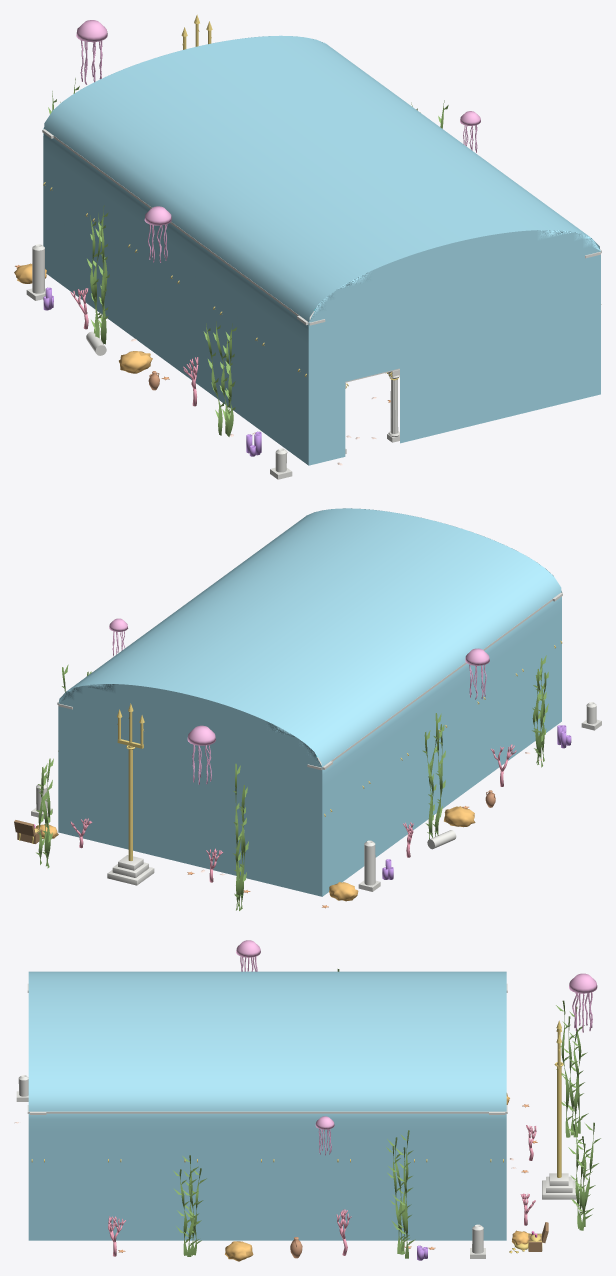
File: AtlantisCage.fbx
The picture shows the model from 3 angles, top to bottom: view 1: azimuth 30°, elevation 25°; view 2: azimuth 150°, elevation 25°; view 3: azimuth 270°, elevation 25°; orthographic projection. The views are drawn at different scales.
Visible parts, largest first — view 1: AtlantisDome, AtlantisRuins, AtlantisKelpB, AtlantisKelpA, AtlantisJellyC, AtlantisMarble, AtlantisCoralOrange, AtlantisJellyA, AtlantisDoorway; view 2: AtlantisDome, AtlantisRuins, AtlantisCoralOrange, AtlantisKelpB, AtlantisTrident, AtlantisKelpE, AtlantisKelpF, AtlantisKelpA, AtlantisPedestal, AtlantisCoralReef, AtlantisJellyC, AtlantisMarble (+1 smaller); view 3: AtlantisDome, AtlantisMarble, AtlantisKelpE, AtlantisKelpD, AtlantisKelpF, AtlantisKelpC, AtlantisCoralReef, AtlantisJellyC, AtlantisPedestal, AtlantisTrident, AtlantisRuins, AtlantisCoralOrange (+2 smaller).
Part boxes in pixels (bbox=[...]): AtlantisDome: bbox=[43, 35, 600, 465]; AtlantisRuins: bbox=[26, 244, 292, 479]; AtlantisKelpB: bbox=[87, 205, 109, 344]; AtlantisKelpA: bbox=[203, 321, 236, 436]; AtlantisJellyC: bbox=[76, 20, 107, 84]; AtlantisMarble: bbox=[42, 129, 601, 325]; AtlantisCoralOrange: bbox=[14, 263, 152, 373]; AtlantisJellyA: bbox=[144, 206, 171, 262]; AtlantisDoorway: bbox=[345, 368, 399, 453]; AtlantisDome: bbox=[58, 508, 561, 896]; AtlantisRuins: bbox=[31, 702, 601, 891]; AtlantisCoralOrange: bbox=[35, 806, 475, 901]; AtlantisKelpB: bbox=[422, 713, 445, 839]; AtlantisTrident: bbox=[117, 703, 144, 860]; AtlantisKelpE: bbox=[233, 763, 248, 910]; AtlantisKelpF: bbox=[36, 758, 53, 868]; AtlantisKelpA: bbox=[532, 655, 548, 767]; AtlantisPedestal: bbox=[107, 855, 154, 885]; AtlantisCoralReef: bbox=[70, 744, 516, 882]; AtlantisJellyC: bbox=[187, 725, 215, 784]; AtlantisMarble: bbox=[57, 592, 562, 770]; AtlantisDome: bbox=[28, 971, 506, 1240]; AtlantisMarble: bbox=[27, 983, 507, 1114]; AtlantisKelpE: bbox=[556, 1000, 588, 1137]; AtlantisKelpD: bbox=[386, 1130, 415, 1258]; AtlantisKelpF: bbox=[567, 1122, 600, 1230]; AtlantisKelpC: bbox=[173, 1155, 206, 1256]; AtlantisCoralReef: bbox=[108, 1125, 536, 1256]; AtlantisJellyC: bbox=[569, 973, 597, 1032]; AtlantisPedestal: bbox=[542, 1173, 576, 1199]; AtlantisTrident: bbox=[554, 1020, 563, 1177]; AtlantisRuins: bbox=[16, 1075, 485, 1258]; AtlantisCoralOrange: bbox=[225, 1093, 529, 1261].
Bounding box in the file's own units: 1069 × 517 × 1538.
